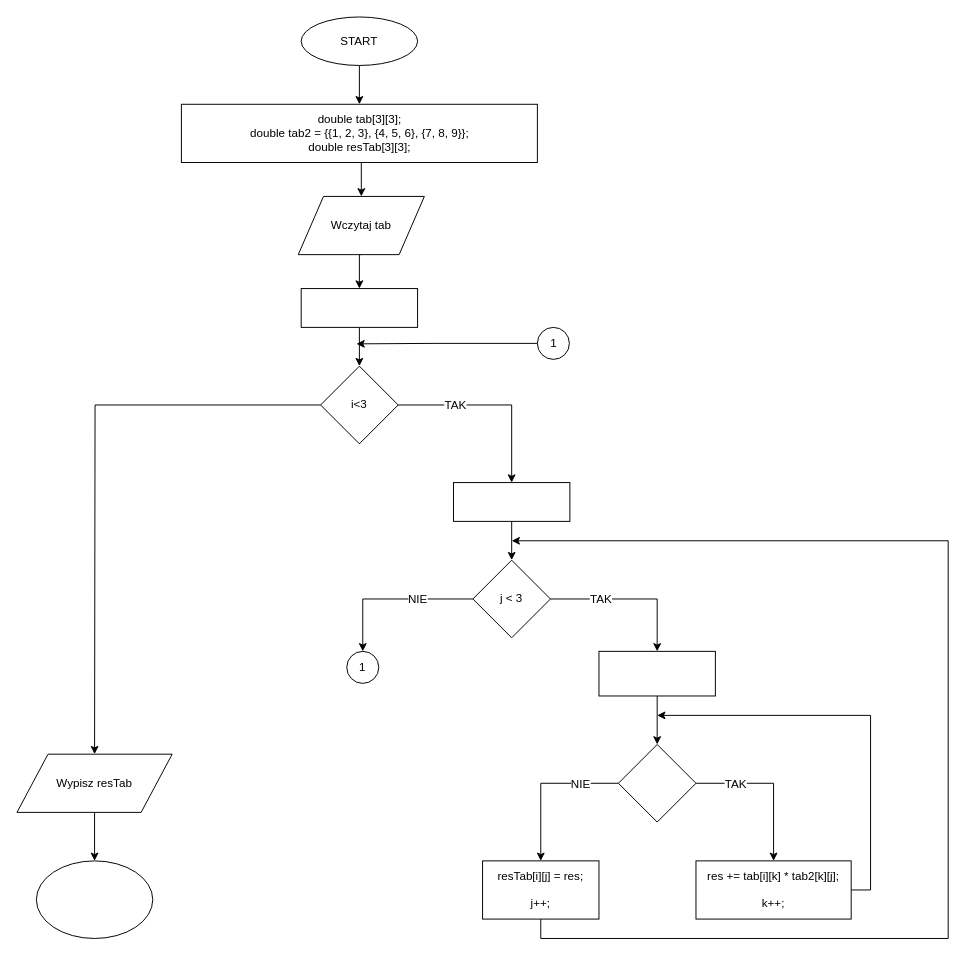
This 973x963 diagram has some shape labels left out. Here are the shapes that lost their labels. From the top down, the centre of each, then its label:
At (x=359, y=307): "int i = 0".
At (x=511, y=501): "int j = 0".
At (x=656, y=673): "int res = 0; int k = 0;".
At (x=656, y=783): "k < 3".
At (x=94, y=899): "STOP".
